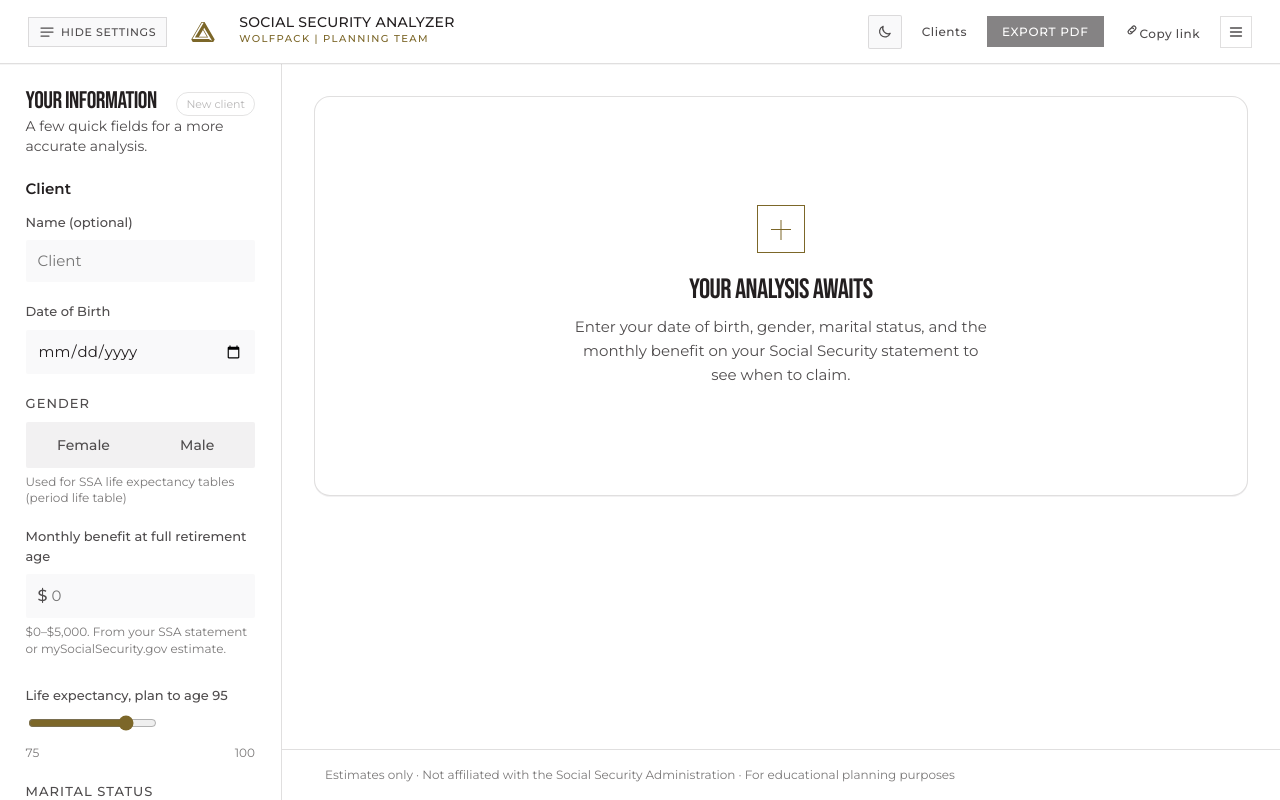
Test: Analyzer › the About panel › closes when its own close button is used
Click the button named "menu". click: {"x": 1236, "y": 32}
box: [1220,16,1252,48]
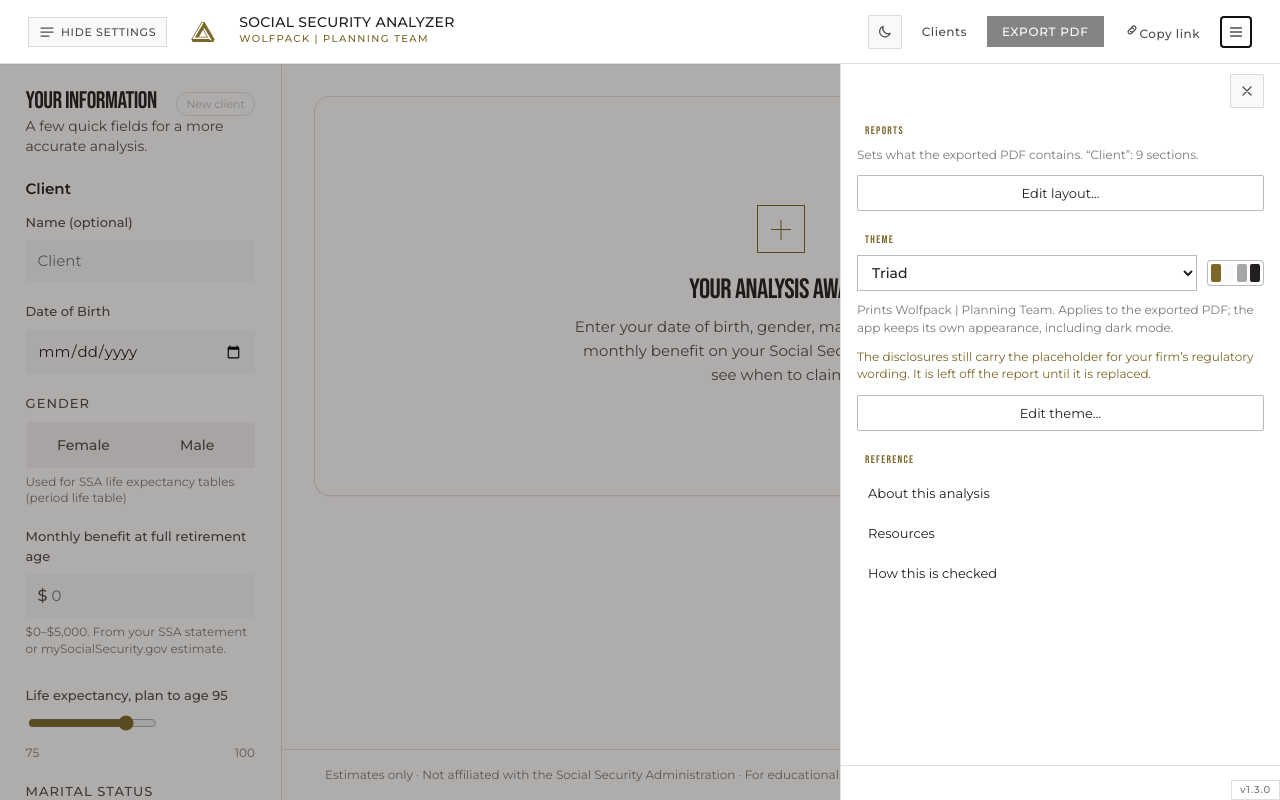
Click the button "About this analysis". click: {"x": 929, "y": 493}
box: [857,475,1264,511]
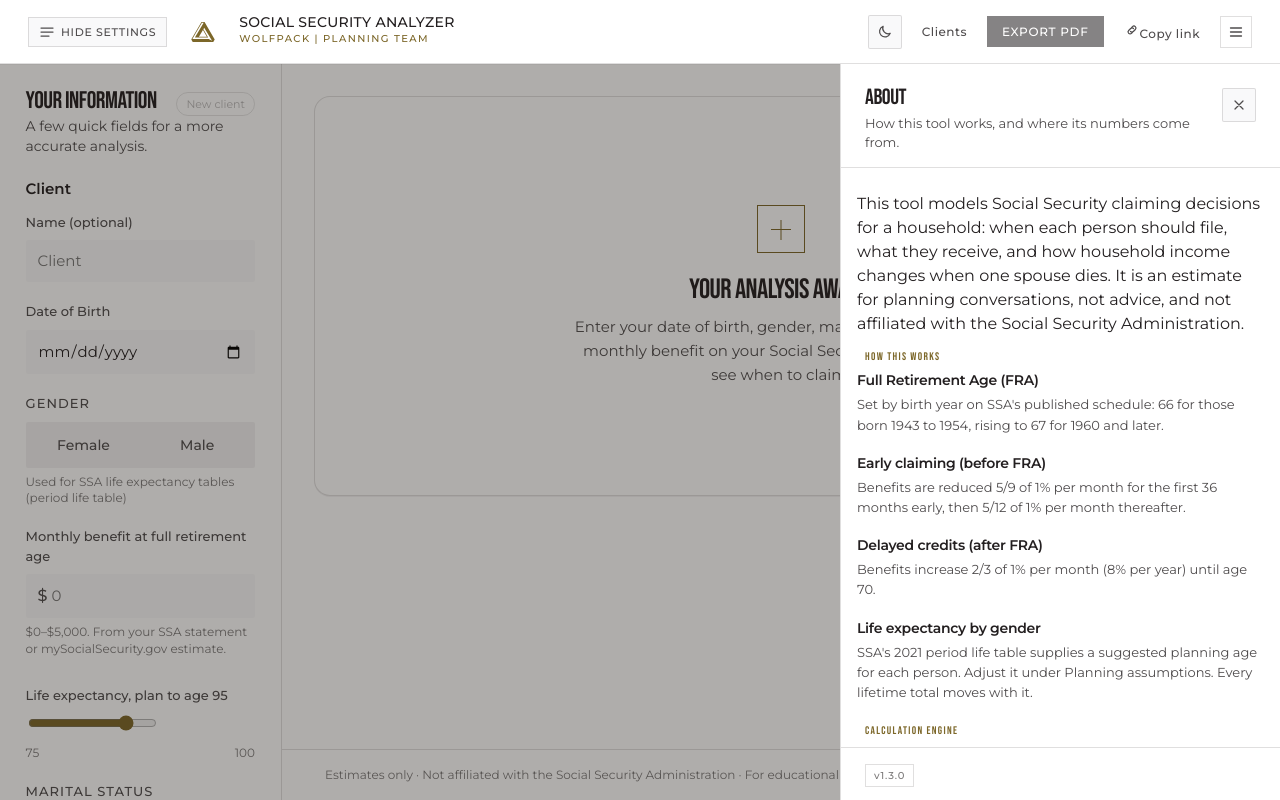
Click the button named "close". click: {"x": 1239, "y": 105}
box: [1222,88,1256,122]
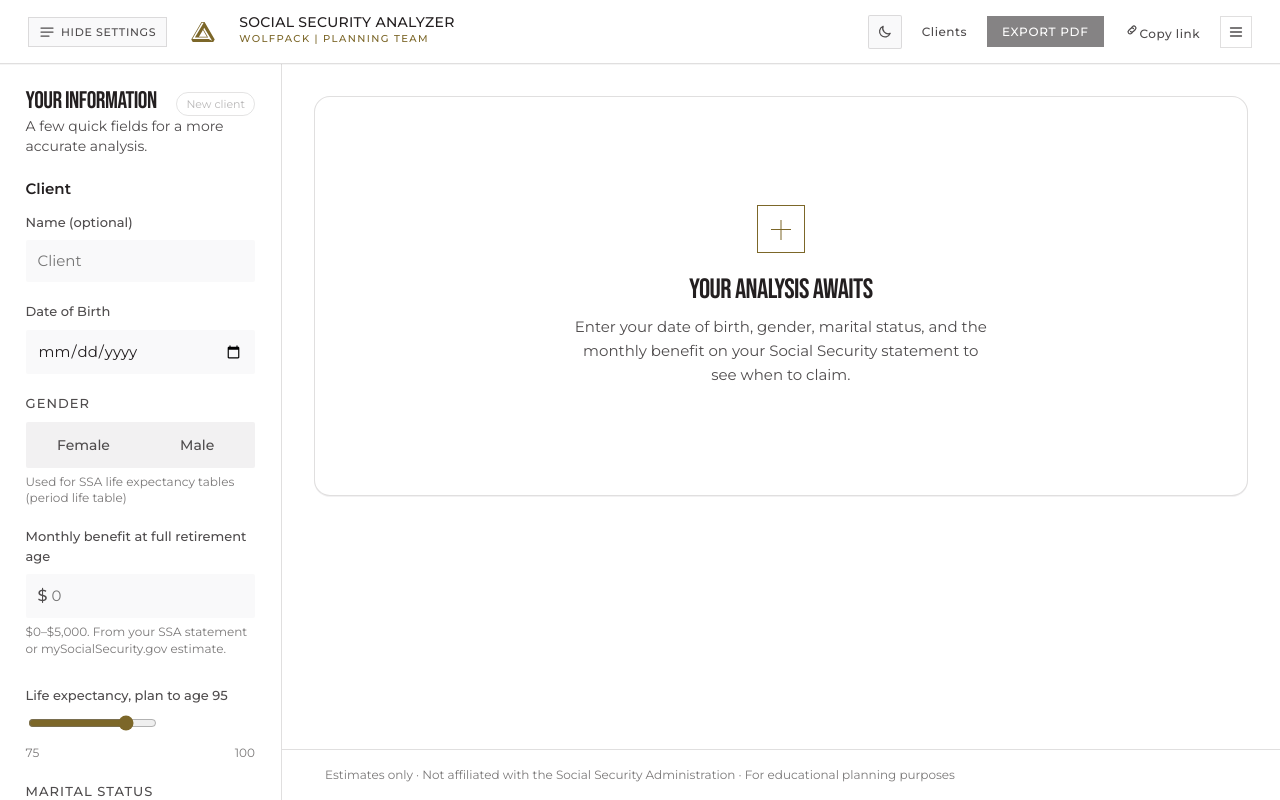
Expected: the heading "About" is gone
